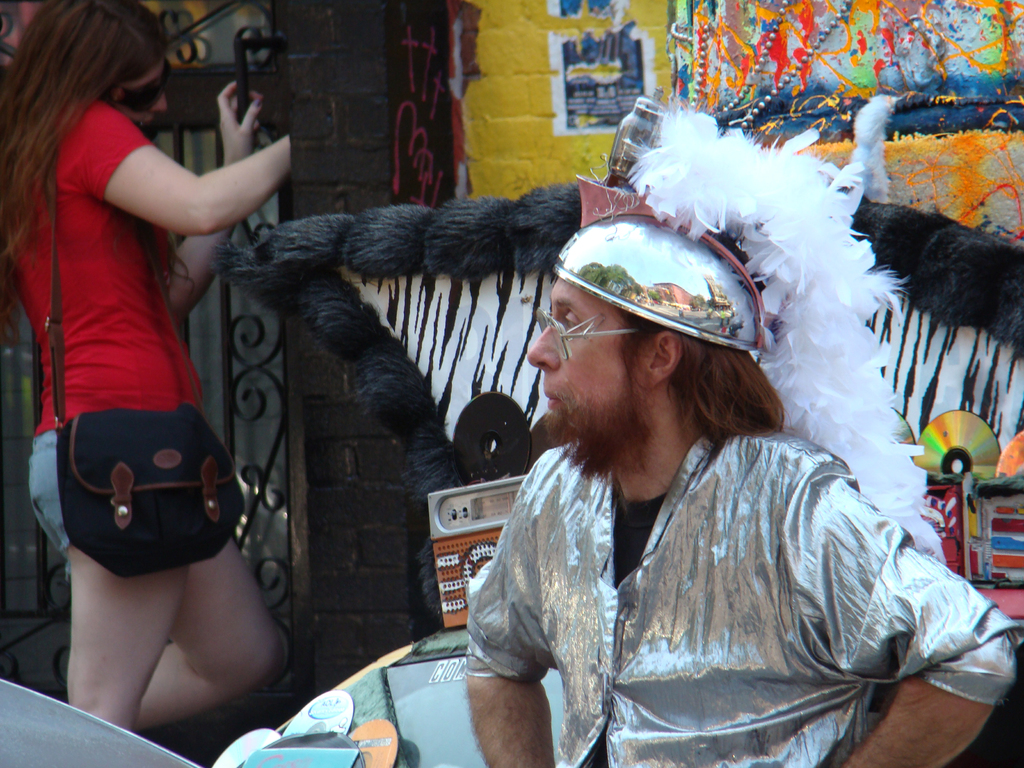Human_hand: (216, 79, 264, 164)
